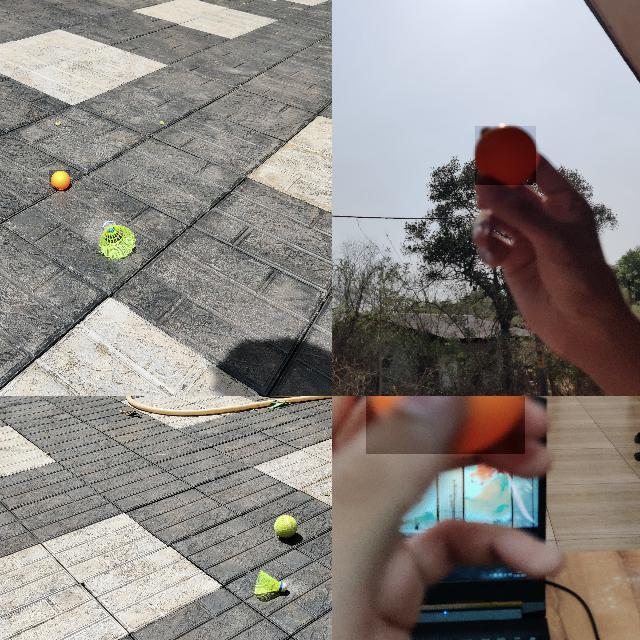ping-pong-ball: (366, 396, 527, 456), (474, 126, 538, 186), (49, 170, 71, 190)
